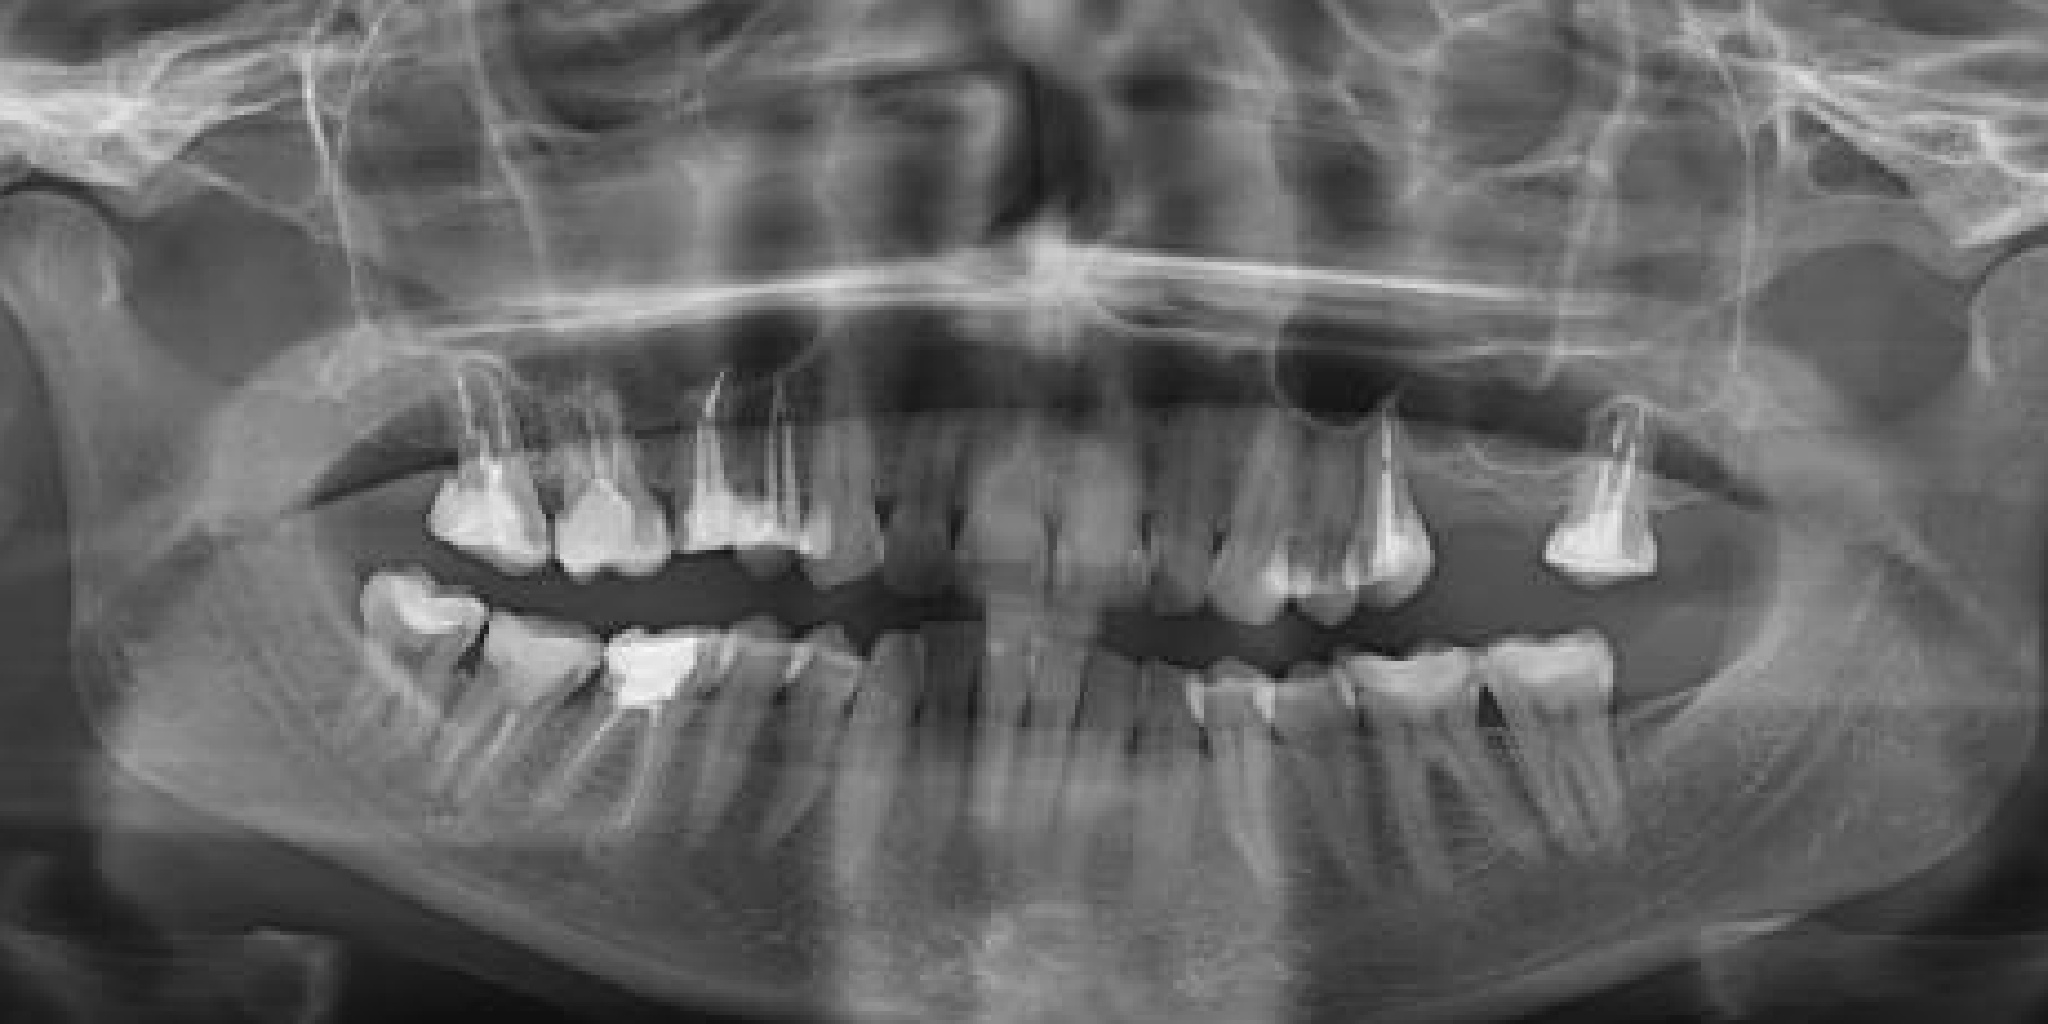Tooth: (1292, 584, 1596, 913), (486, 556, 776, 872), (263, 530, 519, 812), (392, 569, 623, 836), (1468, 597, 1680, 878), (1254, 637, 1438, 920), (707, 603, 893, 878), (641, 593, 823, 874), (393, 354, 562, 597), (1020, 630, 1166, 905), (1526, 374, 1694, 609), (515, 367, 683, 602), (815, 618, 936, 922), (1189, 388, 1332, 641), (1179, 647, 1320, 899), (1096, 645, 1220, 925), (1042, 366, 1174, 620), (876, 613, 984, 871), (987, 616, 1096, 861), (718, 355, 823, 583), (956, 394, 1064, 611), (1276, 415, 1384, 630), (661, 353, 767, 567), (1132, 398, 1232, 626), (1337, 396, 1442, 609), (797, 353, 889, 590), (959, 622, 1031, 876), (878, 397, 965, 598)
